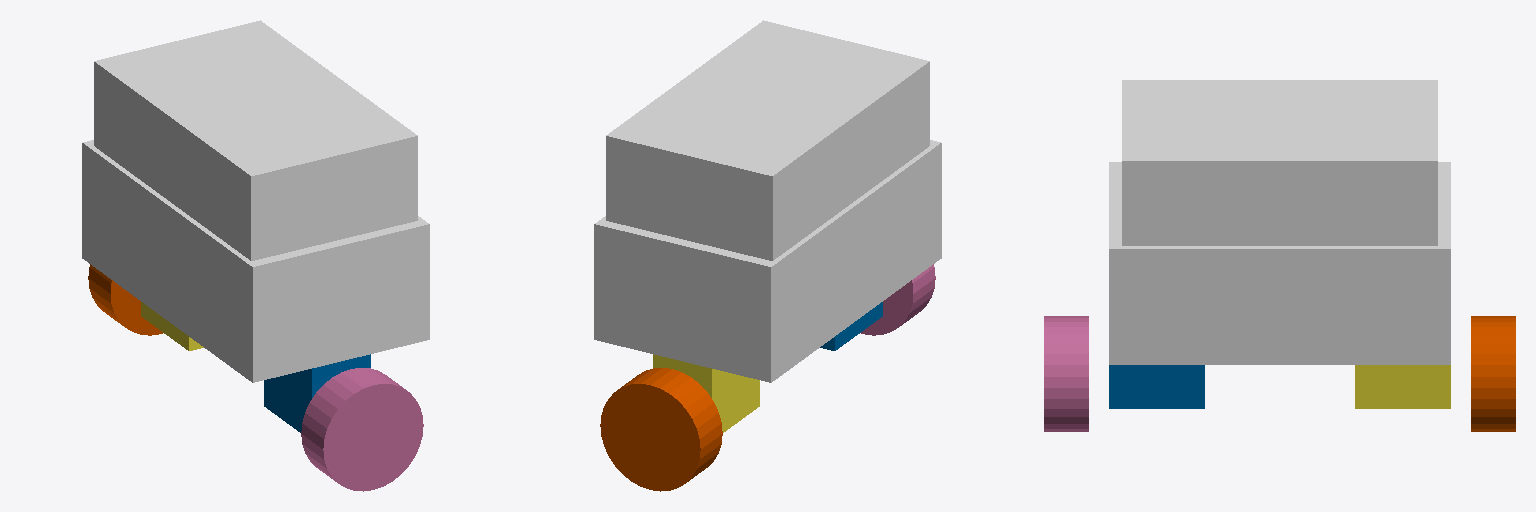
The robot description file, URDF, robot "SelfBalancingRobot":
<?xml version="1.0" encoding="utf-8"?>
<!-- Simplified version of SelfBalancingRobot.urdf, using box/cylinder
     primitives instead of custom meshes. Inertia tensors are computed
     analytically for each part as a uniform solid box or cylinder, using
     the given masses:
       base_link=0.3kg, upper_base_link=0.235kg, battery_link=0.215kg,
       motor1/motor2=0.17kg each, wheel1/wheel2=0.035kg each. -->
<robot
  name="SelfBalancingRobot">
  <link
    name="base_link">
    <inertial>
      <origin xyz="0 0 0.0375" rpy="0 0 0" />
      <mass value="0.3" />
      <inertia ixx="1.140625E-03" ixy="0.0" ixz="0.0"
               iyy="5.0063E-04" iyz="0.0" izz="1.36E-03" />
    </inertial>
    <visual>
      <origin xyz="0 0 0.0375" rpy="0 0 0" />
      <geometry>
        <box size="0.120 0.2 0.075" />
      </geometry>
      <material name="">
        <color rgba="0.89412 0.89412 0.89412 0.8" />
      </material>
    </visual>
    <collision>
      <origin xyz="0 0 0.0375" rpy="0 0 0" />
      <geometry>
        <box size="0.120 0.2 0.075" />
      </geometry>
    </collision>
  </link>
  <link
    name="upper_base_link">
    <inertial>
      <origin xyz="0 0 0" rpy="0 0 0" />
      <mass value="0.235" />
      <inertia ixx="7.295E-04" ixy="0.0" ixz="0.0"
               iyy="3.0928E-04" iyz="0.0" izz="9.2030E-04" />
    </inertial>
    <visual>
      <origin xyz="0 0 0" rpy="0 0 0" />
      <geometry>
        <box size="0.113 0.185 0.055" />
      </geometry>
      <material name="">
        <color rgba="0.89412 0.89412 0.89412 0.8" />
      </material>
    </visual>
    <collision>
      <origin xyz="0 0 0" rpy="0 0 0" />
      <geometry>
        <box size="0.113 0.185 0.055" />
      </geometry>
    </collision>
  </link>
  <link
    name="battery_link">
    <inertial>
      <origin xyz="0 0 0" rpy="0 0 0" />
      <mass value="0.215" />
      <inertia ixx="1.1065E-04" ixy="0.0" ixz="0.0"
        iyy="1.2472E-04" iyz="0.0" izz="2.2104E-04" />
    </inertial>
    <visual>
      <origin xyz="0 0 0" rpy="0 0 0" />
      <geometry>
        <box size="0.081 0.076 0.02" />
      </geometry>
      <material name="">
        <color rgba="0.89412 0.89412 0.89412 0.8" />
      </material>
    </visual>
    <collision>
      <origin xyz="0 0 0" rpy="0 0 0" />
      <geometry>
        <box size="0.081 0.076 0.02" />
      </geometry>
    </collision>
  </link>
    <link name="motor1">
    <inertial>
      <origin xyz="0 0 0" rpy="0 0 0" />
      <mass value="0.17" />
      <inertia ixx="7.572E-05" ixy="0.0" ixz="0.0" iyy="5.396E-05" iyz="0.0" izz="6.709E-05" />
    </inertial>
    <visual>
        <geometry><box size="0.040 0.056 0.047" /></geometry>
        <origin xyz="0 0 0" rpy="0 0 0" />
        <material name="gray" />
    </visual>
    <collision>
        <geometry><box size="0.040 0.056 0.047" /></geometry>
        <origin xyz="0 0 0" rpy="0 0 0" />
    </collision>
  </link>

  <link name="motor2">
    <inertial>
        <origin xyz="0 0 0" rpy="0 0 0" />
        <mass value="0.17" />
        <inertia ixx="7.572E-05" ixy="0.0" ixz="0.0" iyy="5.396E-05" iyz="0.0" izz="6.709E-05" />
    </inertial>
    <visual>
        <geometry><box size="0.040 0.056 0.047" /></geometry>
        <origin xyz="0 0 0" rpy="0 0 0" />
        <material name="gray" />
    </visual>
    <collision>
        <geometry><box size="0.040 0.056 0.047" /></geometry>
        <origin xyz="0 0 0" rpy="0 0 0" />
    </collision>
  </link>

  <link name="wheel1">
    <inertial>
        <origin xyz="0 0 0" rpy="1.5707 0 0" />
        <mass value="0.035" />
        <inertia ixx="1.2087E-05" ixy="0.0" ixz="0.0" iyy="1.2087E-05" iyz="0.0" izz="2.023E-05" />
    </inertial>
    <visual>
        <geometry><cylinder radius="0.034" length="0.026" /></geometry>
        <origin xyz="0 0 0" rpy="1.5707 0 0" />
        <material name="gray" />
    </visual>
    <collision>
        <geometry><cylinder radius="0.034" length="0.026" /></geometry>
        <origin xyz="0 0 0" rpy="1.5707 0 0" />
    </collision>
  </link>

  <link name="wheel2">
    <inertial>
        <origin xyz="0 0 0" rpy="1.5707 0 0" />
        <mass value="0.035" />
        <inertia ixx="1.2087E-05" ixy="0.0" ixz="0.0" iyy="1.2087E-05" iyz="0.0" izz="2.023E-05" />
    </inertial>
    <visual>
        <geometry><cylinder radius="0.034" length="0.026" /></geometry>
        <origin xyz="0 0 0" rpy="1.5707 0 0" />
        <material name="gray" />
    </visual>
    <collision>
        <geometry><cylinder radius="0.034" length="0.026" /></geometry>
        <origin xyz="0 0 0" rpy="1.5707 0 0" />
    </collision>
  </link>

  <joint name="upper_base_joint" type="fixed">
    <origin  xyz="0 0 0.1025"  rpy="0 0 0" />
    <parent  link="base_link" />
    <child  link="upper_base_link" />
    <axis   xyz="0 1 0" />
  </joint>
  
  <joint name="battery_upper_joint" type="fixed">
    <origin xyz="0 0 -0.01750" rpy="0 0 0" />
    <parent link="upper_base_link" />
    <child link="battery_link" />
    <axis xyz="0 1 0" />
  </joint>

  <joint name="motor1_base_joint" type="fixed">
    <parent link="base_link" />
    <child link="motor1" />
    <origin xyz="0 0.072 -0.0235" rpy="0 0 0" />
    <axis xyz="1 0 0" />
  </joint>   

  <joint name="motor2_base_joint" type="fixed">
    <parent link="base_link" />
    <child link="motor2" />
    <origin xyz="0 -0.072 -0.0235" rpy="0 0 0" />
    <axis xyz="1 0 0" />
  </joint> 

  <joint name="wheel1_motor1_joint" type="continuous">
    <parent link="motor1" />
    <child link="wheel1" />
    <origin xyz="0 0.053 -0.0105" rpy="0 0 0" />
    <axis xyz="0 1 0" />
  </joint>   

  <joint name="wheel2_motor2_joint" type="continuous">
    <parent link="motor2" />
    <child link="wheel2" />
    <origin xyz="0 -0.053 -0.0105" rpy="0 0 0" />
    <axis xyz="0 1 0" />
  </joint> 
</robot>

--- Render facts (derived) ---
3 views of the same robot in one strip: view 1: azimuth 30°, elevation 25°; view 2: azimuth 150°, elevation 25°; view 3: azimuth 270°, elevation 25° (orthographic).
Model SelfBalancingRobot with 7 links and 6 joints (2 continuous, 4 fixed), rooted at base_link, posed all joints at 0.
Links seen in each view (by area): view 1: upper_base_link, base_link, wheel2, motor2, wheel1, motor1; view 2: upper_base_link, base_link, wheel1, motor1, wheel2, motor2; view 3: upper_base_link, base_link, wheel1, wheel2, motor1, motor2.
Link boxes in pixels (left/top/right/bottom): upper_base_link: left=94, top=20, right=417, bottom=260; base_link: left=82, top=140, right=429, bottom=382; wheel2: left=301, top=368, right=423, bottom=491; motor2: left=264, top=354, right=370, bottom=432; wheel1: left=88, top=264, right=162, bottom=335; motor1: left=141, top=302, right=203, bottom=350; upper_base_link: left=606, top=20, right=929, bottom=260; base_link: left=594, top=140, right=941, bottom=382; wheel1: left=600, top=368, right=722, bottom=491; motor1: left=653, top=354, right=759, bottom=432; wheel2: left=861, top=264, right=935, bottom=335; motor2: left=820, top=302, right=882, bottom=350; upper_base_link: left=1122, top=80, right=1437, bottom=245; base_link: left=1109, top=162, right=1450, bottom=364; wheel1: left=1471, top=316, right=1515, bottom=431; wheel2: left=1044, top=316, right=1088, bottom=431; motor1: left=1355, top=365, right=1450, bottom=408; motor2: left=1109, top=365, right=1204, bottom=408.
Bounding box of the posed robot: 0.12 × 0.276 × 0.198 m (x, y, z).
Geometry: primitives only (box / cylinder / sphere), no mesh files.
